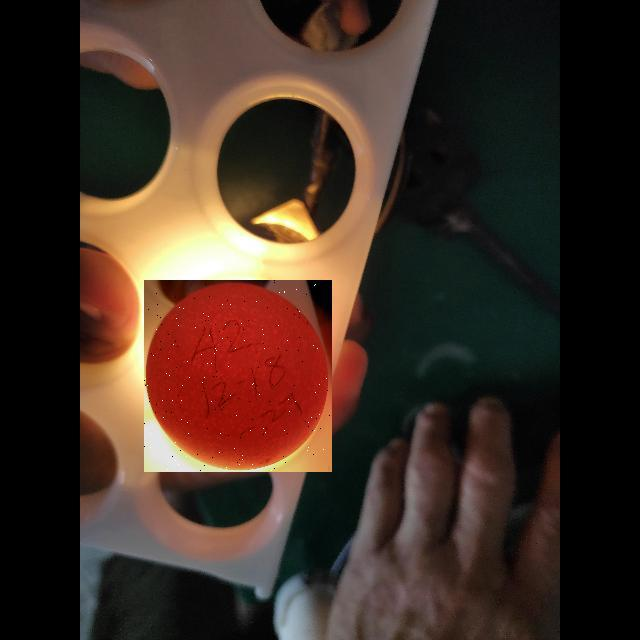A - Good: (144, 280, 332, 472)
